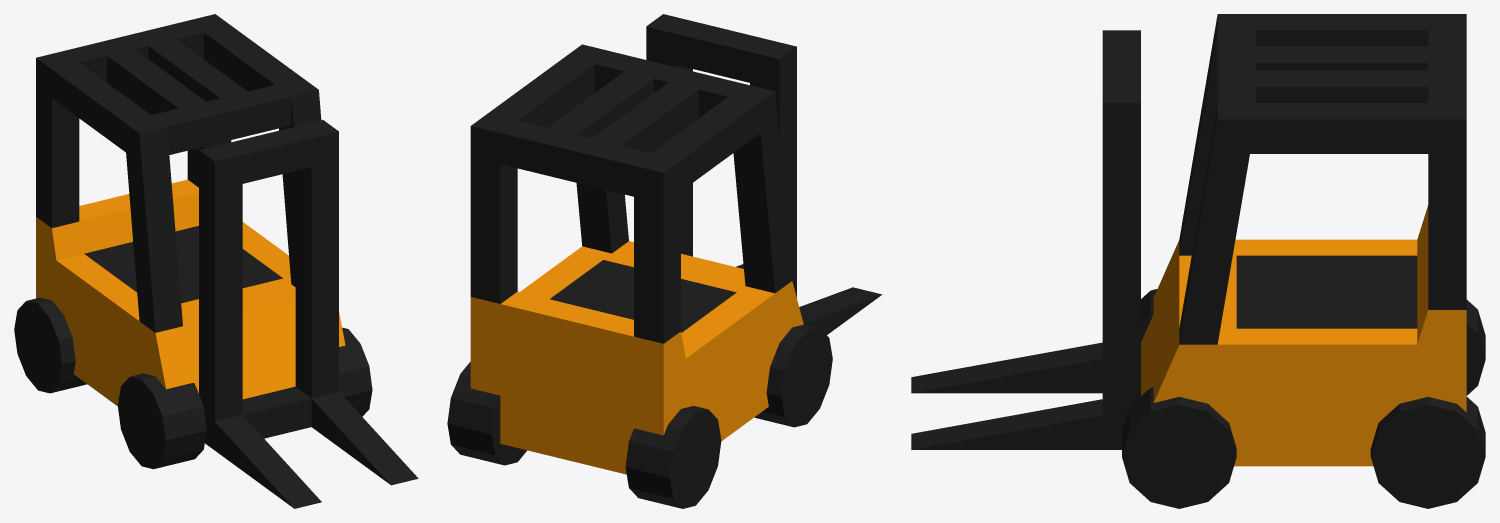
3 views of the same model, side by side, from view 1: azimuth 30°, elevation 25°; view 2: azimuth 150°, elevation 25°; view 3: azimuth 270°, elevation 25° (orthographic). The views are drawn at different scales.
Parts seen in each view (by area): view 1: mesh_1176458052, mesh_1328793198, mesh_264291315, mesh_859216755, mesh_1532016088, mesh_733740021, mesh_2064602021, mesh_609664124, mesh_433290632, mesh_1056547898, mesh_565299399, mesh_478831493 (+13 smaller); view 2: mesh_2064602021, mesh_478831493, mesh_859216755, mesh_1532016088, mesh_565299399, mesh_433290632, mesh_358837451, mesh_1214392057, mesh_1056547898, mesh_733740021, mesh_1294215721, mesh_999661355 (+11 smaller); view 3: mesh_1771445344, mesh_999661355, mesh_1176458052, mesh_843507163, mesh_1536272015, mesh_1422881397, mesh_1328793198, mesh_72299750, mesh_32375184, mesh_985190510, mesh_2064602021, mesh_358837451 (+11 smaller).
Boxes of the visible parts, x1,y1,x2,y2 form: mesh_1176458052: (295, 120, 338, 397); mesh_1328793198: (131, 276, 345, 399); mesh_264291315: (199, 179, 242, 421); mesh_859216755: (123, 115, 182, 332); mesh_1532016088: (52, 254, 138, 382); mesh_733740021: (117, 373, 206, 469); mesh_2064602021: (36, 179, 198, 306); mesh_609664124: (151, 85, 291, 154); mesh_433290632: (36, 87, 79, 227); mesh_1056547898: (199, 126, 311, 190); mesh_565299399: (14, 297, 86, 393); mesh_478831493: (36, 14, 230, 97); mesh_2064602021: (470, 291, 693, 443); mesh_478831493: (470, 113, 680, 203); mesh_859216755: (728, 84, 792, 293); mesh_1532016088: (681, 292, 766, 415); mesh_565299399: (625, 406, 721, 508); mesh_433290632: (634, 192, 680, 343); mesh_358837451: (470, 157, 517, 303); mesh_1214392057: (500, 376, 768, 474); mesh_1056547898: (676, 21, 796, 89); mesh_733740021: (754, 324, 832, 427); mesh_1294215721: (651, 97, 766, 190); mesh_999661355: (550, 260, 736, 332); mesh_1771445344: (1236, 328, 1427, 431); mesh_999661355: (1236, 255, 1417, 328); mesh_1176458052: (1102, 86, 1140, 415); mesh_843507163: (1122, 387, 1236, 508); mesh_1536272015: (1370, 397, 1485, 508); mesh_1422881397: (1179, 103, 1255, 344); mesh_1328793198: (1141, 239, 1236, 431); mesh_72299750: (1236, 103, 1428, 153); mesh_32375184: (911, 342, 1102, 393); mesh_985190510: (911, 399, 1102, 449); mesh_2064602021: (1399, 205, 1466, 411); mesh_358837451: (1428, 154, 1466, 309).
Bounding box in the file's own units: 15 × 22 × 30.
